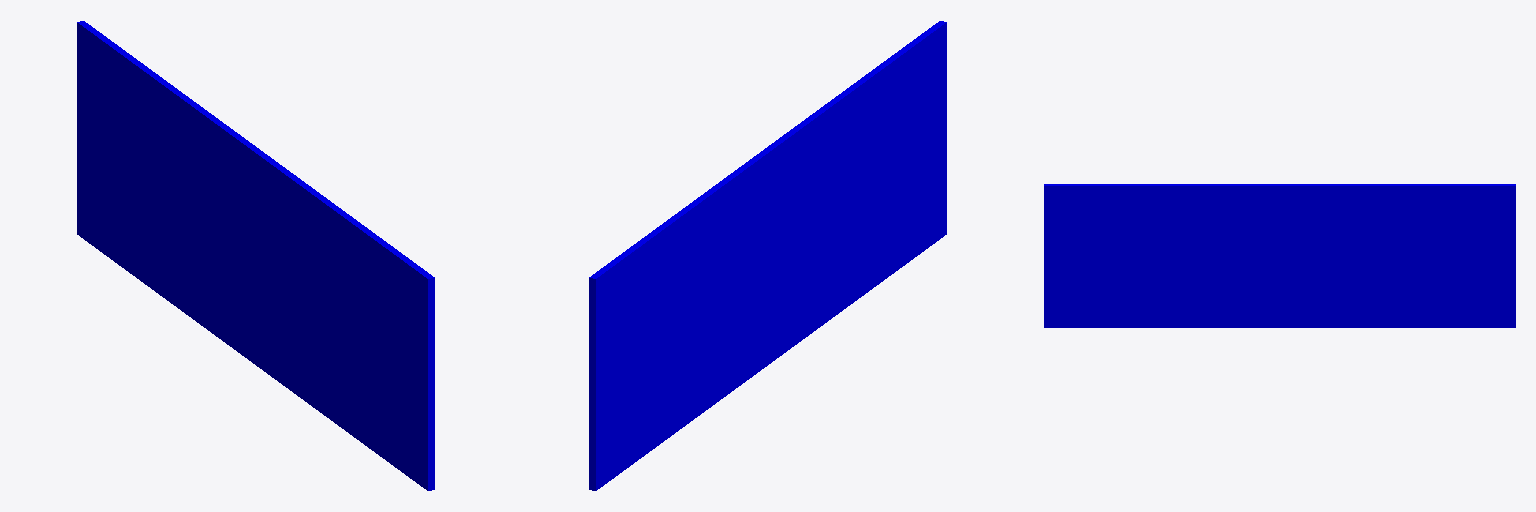
robot.urdf — brick_clone:
<robot name="brick_clone">
    <!-- control -->
    <link name="box1">
        <inertial>
            <mass value="0.2"/>
            <inertia ixx="0" ixy="0" ixz="0" iyy="0" iyz="0" izz="0"/>
        </inertial>
        <visual>
            <origin xyz="0 0 0" rpy="0 0 0"/>
            <geometry>
                <box size="0.01 0.9 0.3"/>
            </geometry>
            <material name="Blue">
                <color rgba="0 0 1.0 1.0"/>
            </material>
        </visual>
        <collision>
            <origin xyz="0 0 0" rpy="0 0 0"/>
            <geometry>
                <box size="0.01 0.9 0.3"/>
            </geometry>
        </collision> 
    </link>
</robot>

--- Render facts (derived) ---
The picture shows the robot from 3 angles, left to right: view 1: azimuth 30°, elevation 25°; view 2: azimuth 150°, elevation 25°; view 3: azimuth 270°, elevation 25°; orthographic projection.
Model brick_clone with 1 links and 0 joints (none), rooted at box1, posed all joints at 0.
Visible links, largest first — view 1: box1; view 2: box1; view 3: box1.
Link boxes in pixels (box(x1,y1,x2,y2)): box1: box(77, 21, 434, 490); box1: box(589, 21, 946, 490); box1: box(1044, 184, 1515, 327).
Size in the robot's own frame: 0.01 by 0.9 by 0.3 metres.
Geometry: primitives only (box / cylinder / sphere), no mesh files.